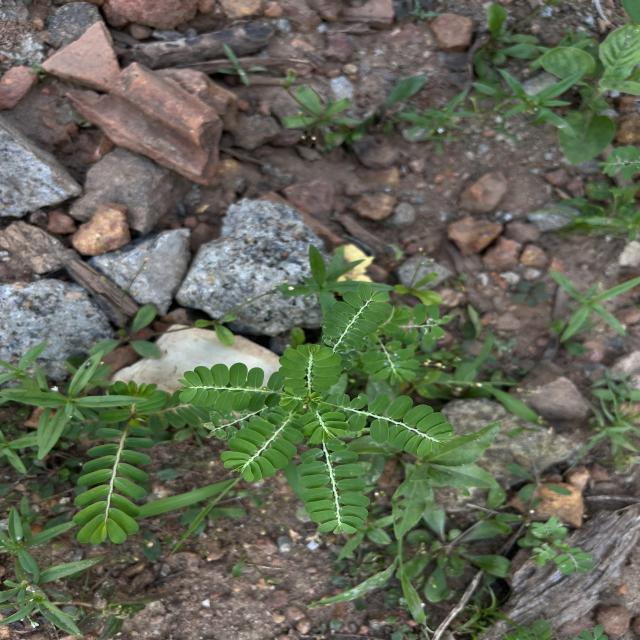Phyllanthus niruri: (296, 438, 374, 538), (342, 390, 456, 457), (220, 409, 303, 486), (176, 358, 281, 412), (320, 280, 393, 350), (276, 340, 345, 396)
